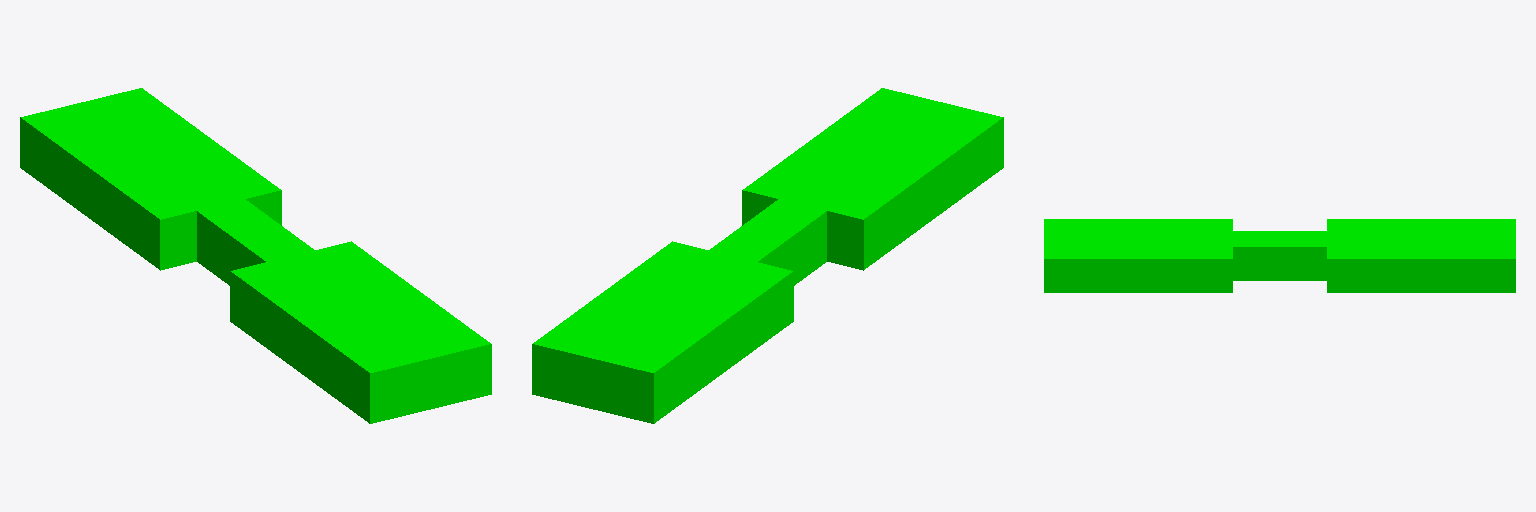
URDF robot description (robot):
<robot name = "robot">
    <link name="root">
        <inertial>
            <origin xyz="0.0 0.0 1.5" rpy="0 0 0"/>
            <mass value="1" />
            <inertia ixx="100" ixy="0" ixz="0" iyy="100" iyz="0" izz="100" />
        </inertial>
        <visual>
            <origin xyz="0.0 0.0 1.5" rpy="0 0 0"/>
            <geometry>
                <box size="0 0 0.0001" />
            </geometry>
            <material name="Green">
                <color rgba="0 1.0 0.0 1.0"/>
            </material>
        </visual>
        <collision>
            <origin xyz="0.0 0.0 1.5" rpy="0 0 0"/>
            <geometry>
                <box size="0 0 0.0001" />
            </geometry>
        </collision>
    </link>
    <joint name="root_000" type="revolute">
       <parent link="root"/>
       <child  link="000"/>
       <origin rpy="0 0 0" xyz="0.0 0.0 1.5" />
     <axis xyz="1 0 0"/>
       <limit effort="0.0" lower="-3.14159" upper="3.14159" velocity="0.0"/>
    </joint>
    <link name="000">
        <inertial>
            <origin xyz="0.1 0.0 0.0" rpy="0 0 0"/>
            <mass value="1" />
            <inertia ixx="100" ixy="0" ixz="0" iyy="100" iyz="0" izz="100" />
        </inertial>
        <visual>
            <origin xyz="0.1 0.0 0.0" rpy="0 0 0"/>
            <geometry>
                <box size="0.2 0.5 0.2" />
            </geometry>
            <material name="Green">
                <color rgba="0 1.0 0.0 1.0"/>
            </material>
        </visual>
        <collision>
            <origin xyz="0.1 0.0 0.0" rpy="0 0 0"/>
            <geometry>
                <box size="0.2 0.5 0.2" />
            </geometry>
        </collision>
    </link>
    <joint name="000_000-100" type="revolute">
       <parent link="000"/>
       <child  link="000-100"/>
       <origin rpy="0 0 0" xyz="0.1 0.25 -0.0" />
     <axis xyz="0 1 0"/>
       <limit effort="0.0" lower="-3.14159" upper="3.14159" velocity="0.0"/>
    </joint>
    <link name="000-100">
        <inertial>
            <origin xyz="0.0 0.25 -0.0" rpy="0 0 0"/>
            <mass value="1" />
            <inertia ixx="100" ixy="0" ixz="0" iyy="100" iyz="0" izz="100" />
        </inertial>
        <visual>
            <origin xyz="0.0 0.25 -0.0" rpy="0 0 0"/>
            <geometry>
                <box size="0.5 0.5 0.2" />
            </geometry>
            <material name="Green">
                <color rgba="0 1.0 0.0 1.0"/>
            </material>
        </visual>
        <collision>
            <origin xyz="0.0 0.25 -0.0" rpy="0 0 0"/>
            <geometry>
                <box size="0.5 0.5 0.2" />
            </geometry>
        </collision>
    </link>
    <joint name="000-100_000-110" type="revolute">
       <parent link="000-100"/>
       <child  link="000-110"/>
       <origin rpy="0 0 0" xyz="0.0 0.5 -0.0" />
     <axis xyz="0 1 0"/>
       <limit effort="0.0" lower="-3.14159" upper="3.14159" velocity="0.0"/>
    </joint>
    <link name="000-110">
        <inertial>
            <origin xyz="0.0 0.25 -0.0" rpy="0 0 0"/>
            <mass value="1" />
            <inertia ixx="100" ixy="0" ixz="0" iyy="100" iyz="0" izz="100" />
        </inertial>
        <visual>
            <origin xyz="0.0 0.25 -0.0" rpy="0 0 0"/>
            <geometry>
                <box size="0.5 0.5 0.2" />
            </geometry>
            <material name="Green">
                <color rgba="0 1.0 0.0 1.0"/>
            </material>
        </visual>
        <collision>
            <origin xyz="0.0 0.25 -0.0" rpy="0 0 0"/>
            <geometry>
                <box size="0.5 0.5 0.2" />
            </geometry>
        </collision>
    </link>
    <joint name="000_000-101" type="revolute">
       <parent link="000"/>
       <child  link="000-101"/>
       <origin rpy="0 0 0" xyz="0.1 -0.25 -0.0" />
     <axis xyz="0 1 0"/>
       <limit effort="0.0" lower="-3.14159" upper="3.14159" velocity="0.0"/>
    </joint>
    <link name="000-101">
        <inertial>
            <origin xyz="0.0 -0.25 -0.0" rpy="0 0 0"/>
            <mass value="1" />
            <inertia ixx="100" ixy="0" ixz="0" iyy="100" iyz="0" izz="100" />
        </inertial>
        <visual>
            <origin xyz="0.0 -0.25 -0.0" rpy="0 0 0"/>
            <geometry>
                <box size="0.5 0.5 0.2" />
            </geometry>
            <material name="Green">
                <color rgba="0 1.0 0.0 1.0"/>
            </material>
        </visual>
        <collision>
            <origin xyz="0.0 -0.25 -0.0" rpy="0 0 0"/>
            <geometry>
                <box size="0.5 0.5 0.2" />
            </geometry>
        </collision>
    </link>
    <joint name="000-101_000-111" type="revolute">
       <parent link="000-101"/>
       <child  link="000-111"/>
       <origin rpy="0 0 0" xyz="0.0 -0.5 -0.0" />
     <axis xyz="0 1 0"/>
       <limit effort="0.0" lower="-3.14159" upper="3.14159" velocity="0.0"/>
    </joint>
    <link name="000-111">
        <inertial>
            <origin xyz="0.0 -0.25 -0.0" rpy="0 0 0"/>
            <mass value="1" />
            <inertia ixx="100" ixy="0" ixz="0" iyy="100" iyz="0" izz="100" />
        </inertial>
        <visual>
            <origin xyz="0.0 -0.25 -0.0" rpy="0 0 0"/>
            <geometry>
                <box size="0.5 0.5 0.2" />
            </geometry>
            <material name="Green">
                <color rgba="0 1.0 0.0 1.0"/>
            </material>
        </visual>
        <collision>
            <origin xyz="0.0 -0.25 -0.0" rpy="0 0 0"/>
            <geometry>
                <box size="0.5 0.5 0.2" />
            </geometry>
        </collision>
    </link>
</robot>

--- Render facts (derived) ---
3 views of the same robot in one strip: view 1: azimuth 30°, elevation 25°; view 2: azimuth 150°, elevation 25°; view 3: azimuth 270°, elevation 25° (orthographic).
Model robot with 6 links and 5 joints (5 revolute), rooted at root, posed all joints at 0.
Visible links, largest first — view 1: 000-111, 000-100, 000-110, 000-101, 000; view 2: 000-110, 000-101, 000-111, 000-100, 000; view 3: 000-110, 000-111, 000-100, 000-101, 000.
Link boxes in pixels (x1=…): 000-111: x1=300, y1=293, x2=491, y2=423; 000-100: x1=90, y1=139, x2=281, y2=270; 000-110: x1=20, y1=88, x2=210, y2=218; 000-101: x1=230, y1=241, x2=420, y2=371; 000: x1=197, y1=199, x2=314, y2=285; 000-110: x1=532, y1=293, x2=723, y2=423; 000-101: x1=742, y1=139, x2=933, y2=270; 000-111: x1=813, y1=88, x2=1003, y2=218; 000-100: x1=603, y1=241, x2=793, y2=371; 000: x1=709, y1=199, x2=826, y2=285; 000-110: x1=1421, y1=219, x2=1515, y2=292; 000-111: x1=1044, y1=219, x2=1138, y2=292; 000-100: x1=1327, y1=219, x2=1420, y2=292; 000-101: x1=1139, y1=219, x2=1232, y2=292; 000: x1=1233, y1=231, x2=1326, y2=280.
Bounding box of the posed robot: 0.5 × 2.5 × 0.2 m (x, y, z).
Geometry: primitives only (box / cylinder / sphere), no mesh files.